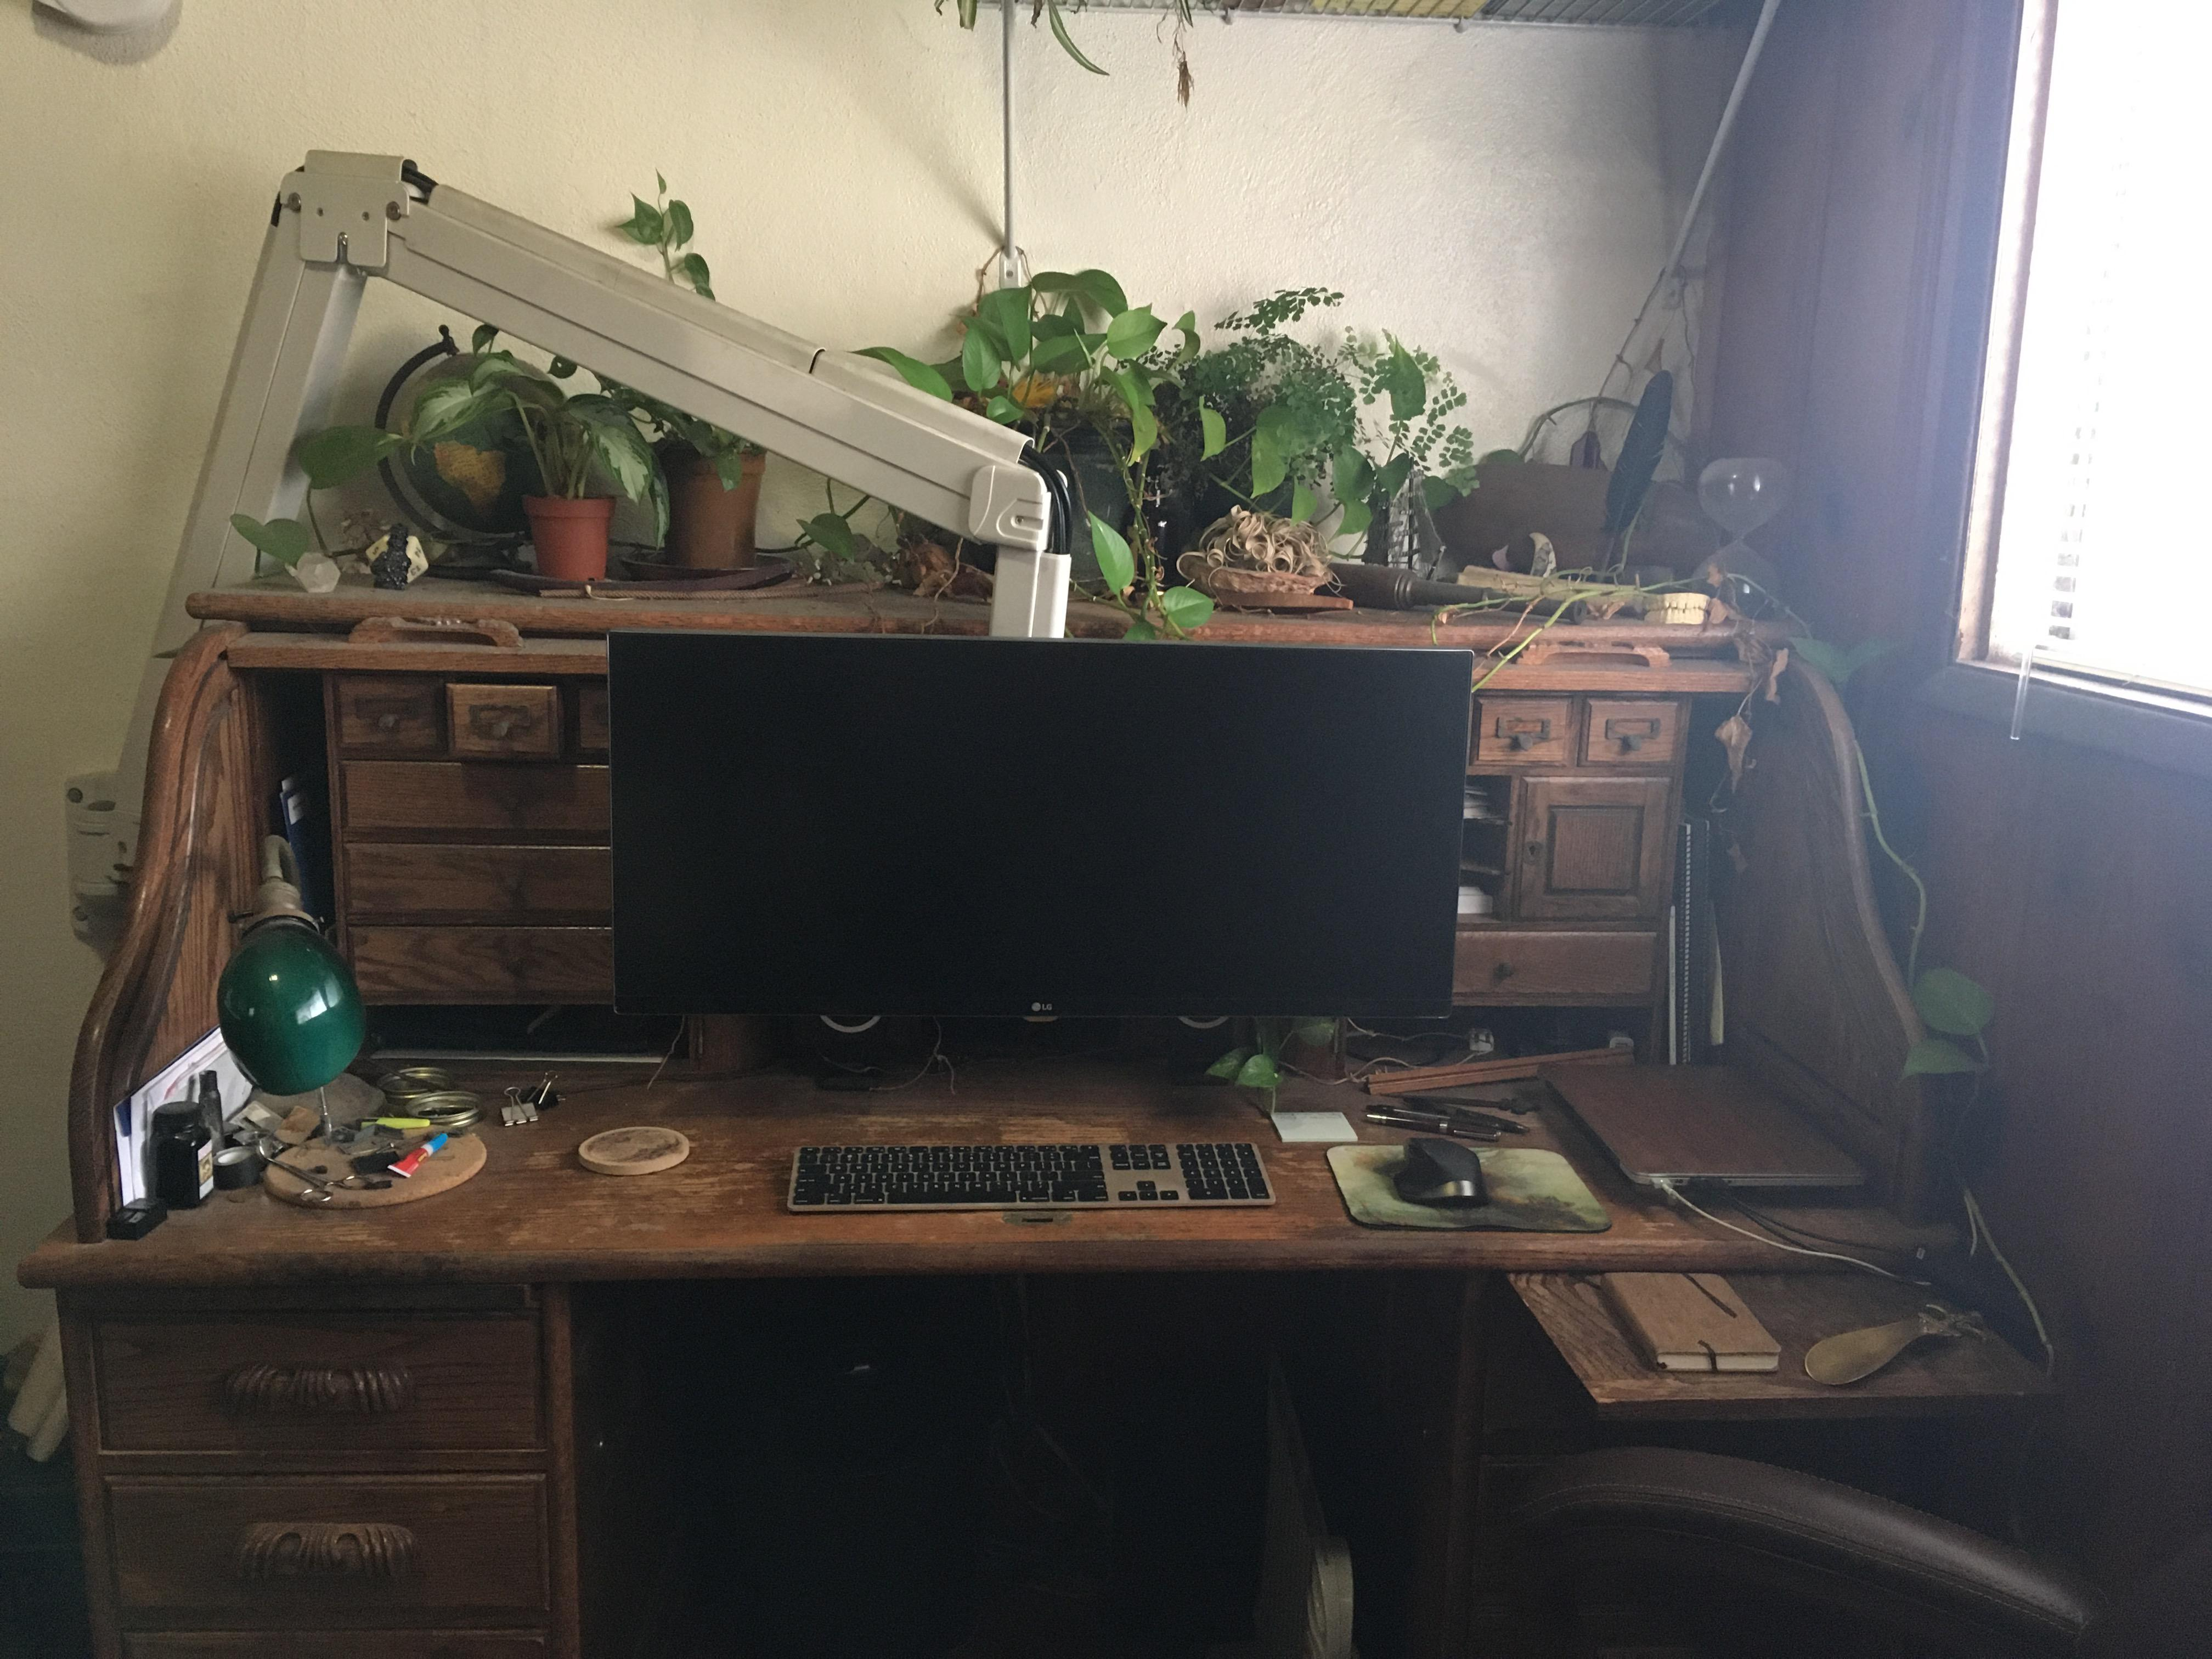Chair (Generic): (1468, 1436, 2107, 1659)
Decoration (Plant): (1021, 268, 1460, 606)
Desk (Generic): (63, 525, 2073, 1647)
Drink Coaster: (571, 1122, 693, 1182)
Keyboard (Generic): (786, 1141, 1292, 1208)
Lamp (Desk): (216, 830, 373, 1101)
Laptop (OSX): (1536, 1039, 1885, 1204)
Monitor (Landscape): (603, 631, 1500, 1028)
Monitor Arm: (57, 124, 1082, 943)
Mouse (Ergonomic): (1386, 1131, 1500, 1211)
Mousepad (Generic): (1325, 1138, 1618, 1236)
Notebook: (1597, 1256, 1785, 1389)
Storage Drawer: (40, 1251, 613, 1659)
